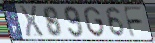6: (105, 6, 126, 38)
8: (43, 5, 63, 39)
9: (64, 5, 84, 39)
F: (122, 6, 145, 39)
G: (83, 6, 106, 38)
X: (17, 4, 45, 39)
